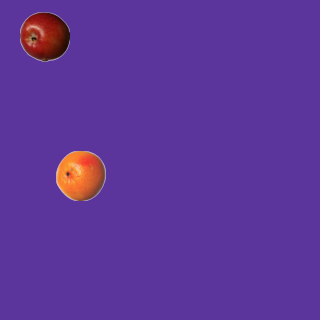Apple Braeburn: (19, 11, 69, 61)
Grapefruit Pink: (55, 150, 105, 200)
